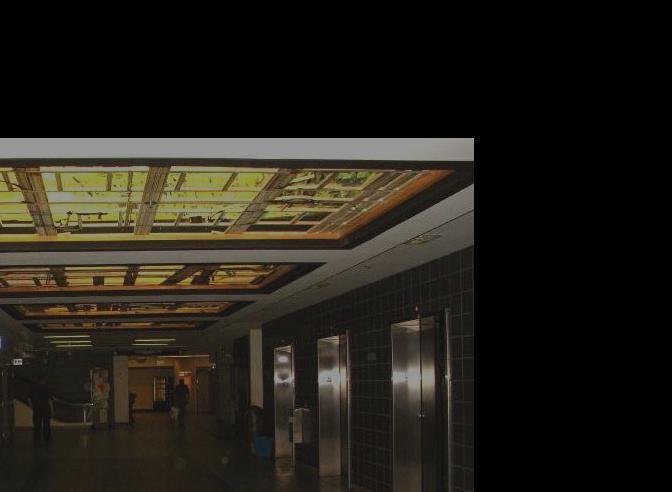Bote de Basura: (242, 405, 265, 456), (254, 434, 273, 460)
